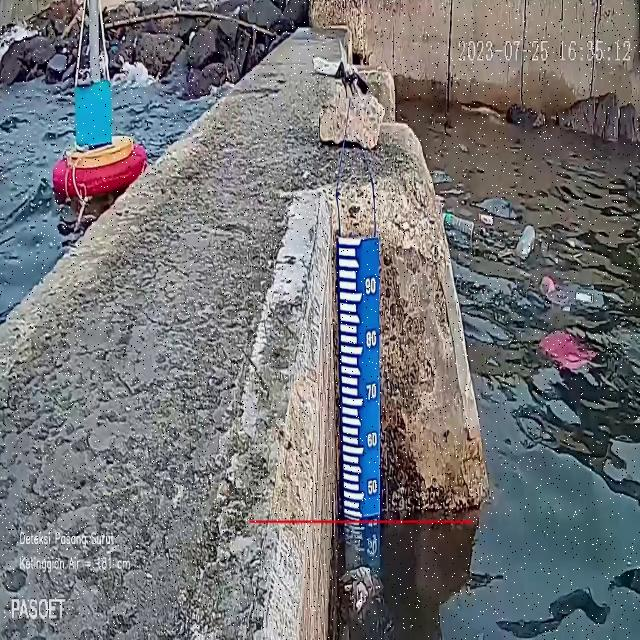50: (368, 478, 378, 495)
60: (367, 429, 377, 448)
70: (367, 382, 378, 401)
80: (365, 328, 377, 348)
90: (365, 276, 376, 295)
staff: (338, 235, 379, 518)
